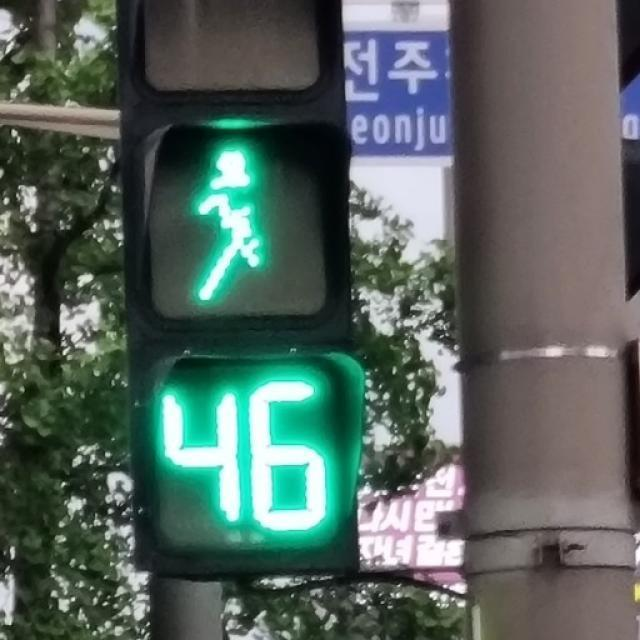green_light: (159, 142, 337, 537)
